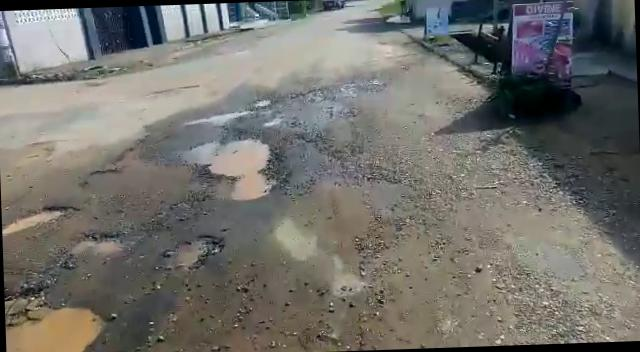pothole: (175, 135, 284, 199), (4, 300, 118, 352), (160, 233, 221, 273), (3, 204, 82, 234), (186, 109, 251, 127)
